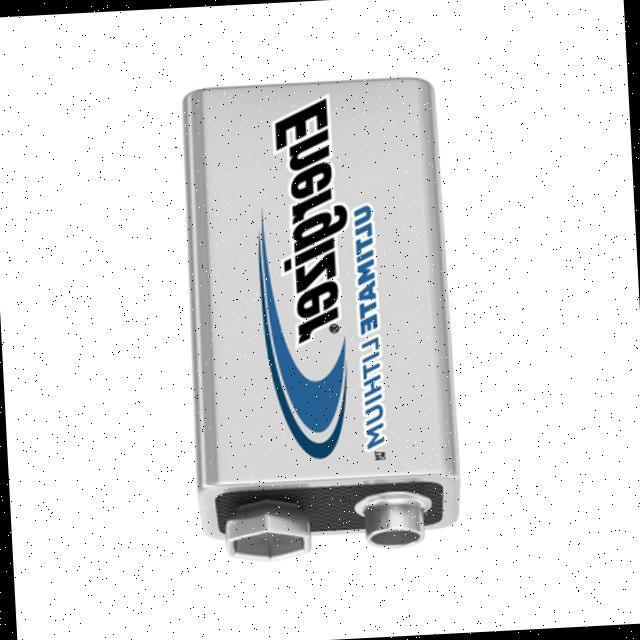9V: (182, 76, 461, 553)
